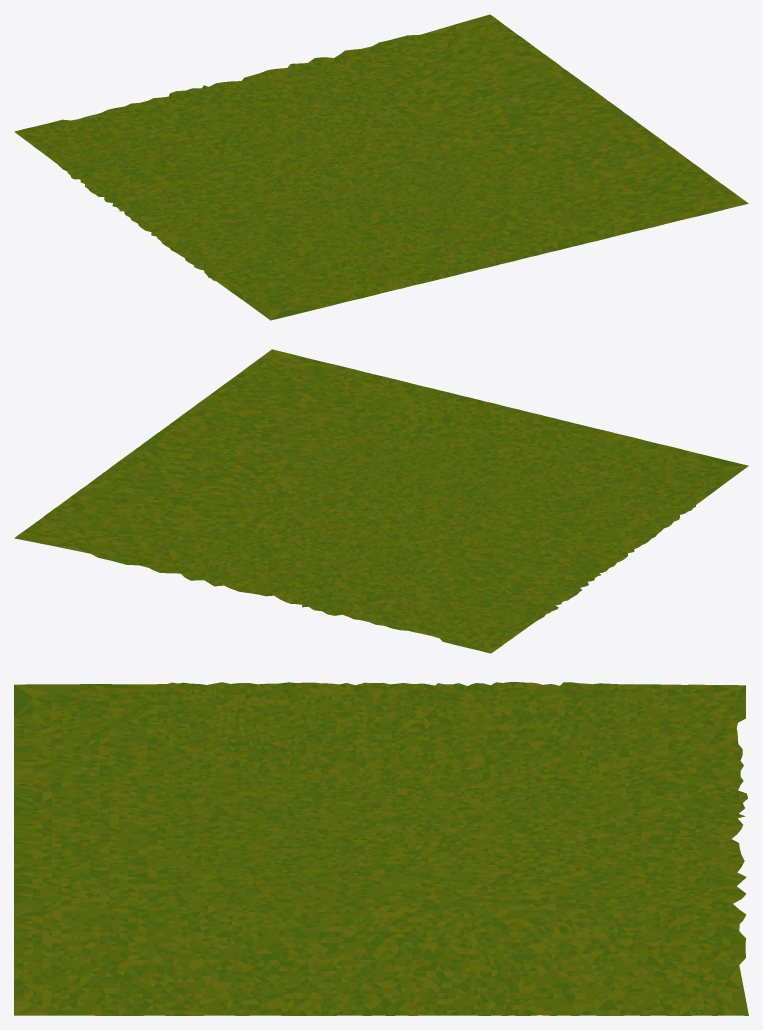
The model's file is CastleTown Camp.fbx.
3 views of the same model, one above another, from view 1: azimuth 30°, elevation 25°; view 2: azimuth 150°, elevation 25°; view 3: azimuth 270°, elevation 25° (orthographic). The views are drawn at different scales.
Visible parts, largest first — view 1: ground; view 2: ground; view 3: ground.
Part boxes in pixels (left/top/right/bottom): ground: left=14, top=14, right=748, bottom=320; ground: left=14, top=349, right=748, bottom=653; ground: left=14, top=682, right=748, bottom=1015.
Size of the model in its own units: 95220 by 37.86 by 102323.
